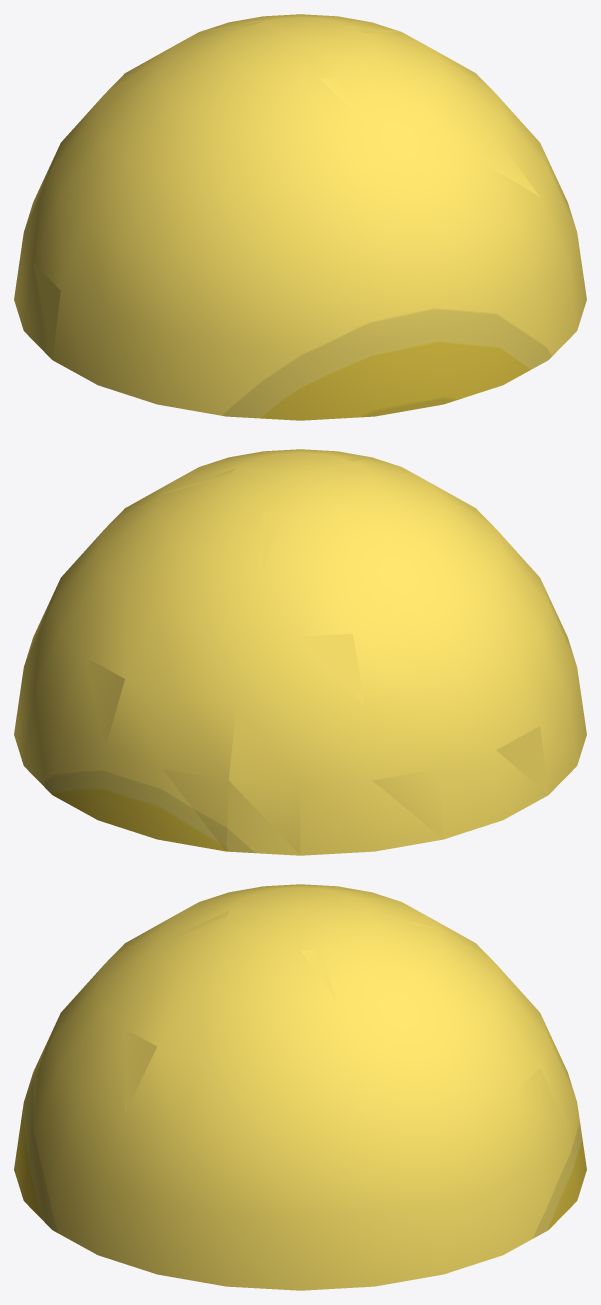
File: Mafia_HQ_Dome.FBX
3 renders of one model, top to bottom at view 1: azimuth 30°, elevation 25°; view 2: azimuth 150°, elevation 25°; view 3: azimuth 270°, elevation 25°, orthographic.
Visible parts, largest first — view 1: mafia_theatre_dome; view 2: mafia_theatre_dome; view 3: mafia_theatre_dome.
Part boxes in pixels (bbox=[...]): mafia_theatre_dome: bbox=[14, 14, 586, 420]; mafia_theatre_dome: bbox=[14, 449, 586, 855]; mafia_theatre_dome: bbox=[14, 884, 586, 1290].
Size of the model in its own units: 1733 by 867 by 1733.
